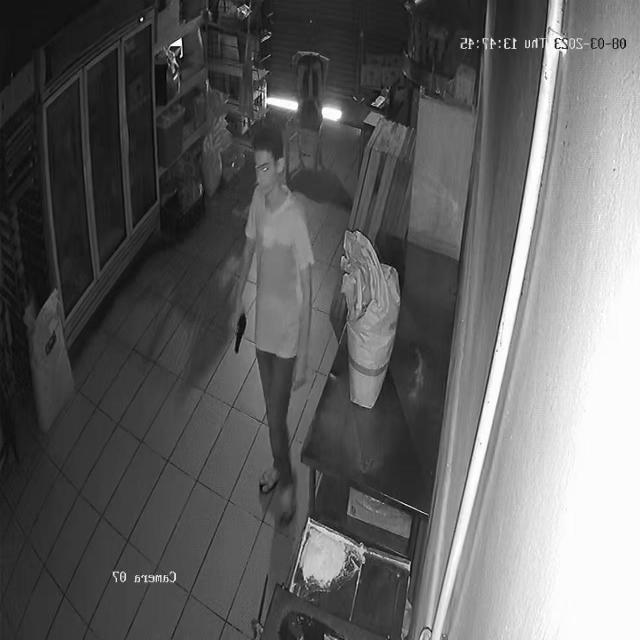Gun: (231, 301, 255, 357)
